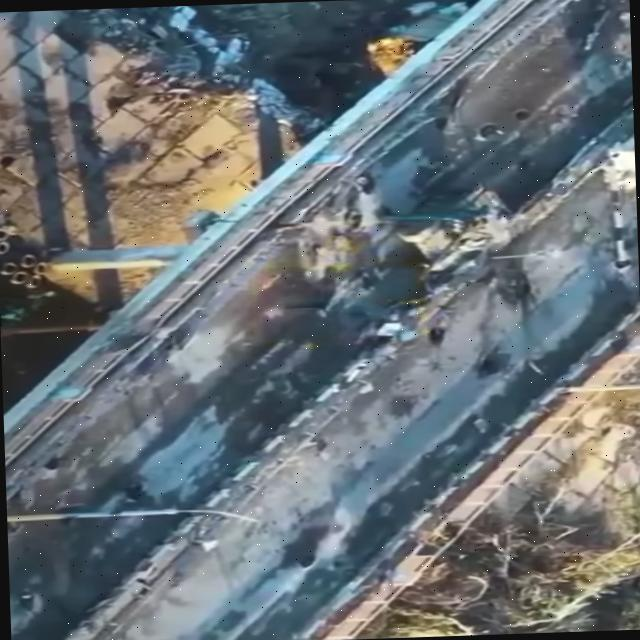MBT: (386, 182, 519, 286)
